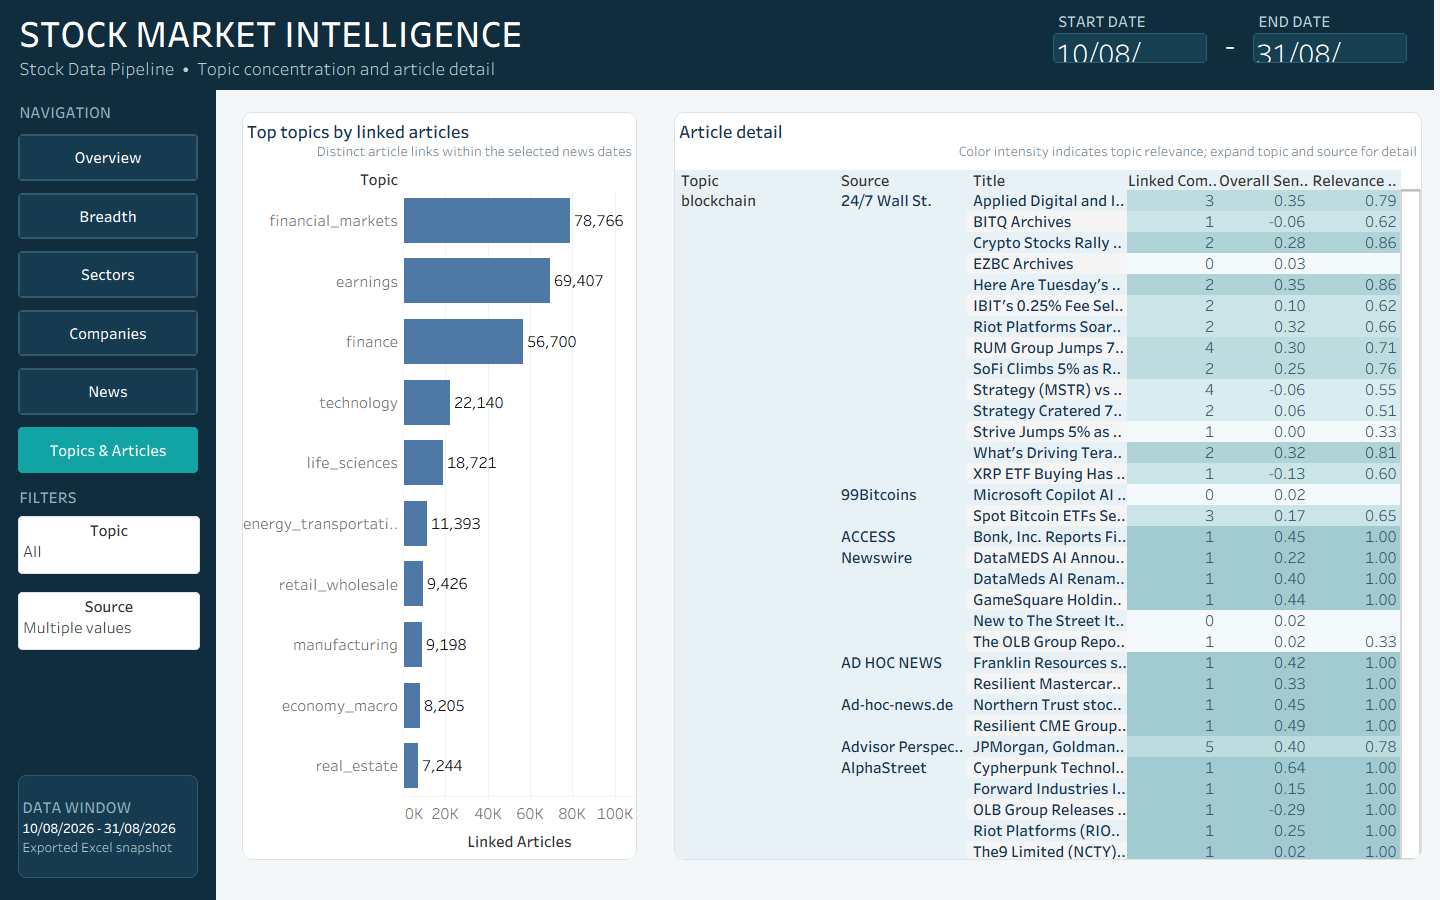

What the dashboard file says about the page in this screenshot:
{"tool":"tableau","page":{"name":"06. Topics & Articles","canvas":[1440,900],"ordinal":5},"visuals":[{"type":"blank","box":[0,0,1440,900]},{"type":"text","box":[0,0,1434,90]},{"type":"text","box":[1055,10,150,22]},{"type":"text","box":[1255,10,160,22]},{"type":"parameter","param":"[Parameters].[Parameter 1300762280890369]","box":[1050,30,160,36]},{"type":"text","box":[1176,30,108,28]},{"type":"parameter","param":"[Parameters].[Parameter 1300762280984578]","box":[1250,30,160,36]},{"type":"blank","box":[0,90,216,810]},{"type":"text","box":[14.4,99,187.2,27]},{"type":"worksheet","title":"Top News Topics by Article Links","mark":"Bar","rows":["name (dim!topics)"],"cols":["new_id (fact!news!topics)"],"box":[237.6,108,403.2,756]},{"type":"worksheet","title":"Article Detail Table","mark":"Square","rows":["name (dim!topics)","source","title"],"box":[669.6,108,756,756]},{"type":"dashboard-object","box":[14.4,130.5,187.2,54]},{"type":"dashboard-object","box":[14.4,189,187.2,54]},{"type":"dashboard-object","box":[14.4,247.5,187.2,54]},{"type":"dashboard-object","box":[14.4,306,187.2,54]},{"type":"dashboard-object","box":[14.4,364.5,187.2,54]},{"type":"dashboard-object","box":[14.4,423,187.2,54]},{"type":"text","box":[14.4,486,187.2,22.5]},{"type":"filter","title":"Article Detail Table","param":"[federated.11qdke01tbc8mv13ne5071r7qorc].[none:name (dim!topics):nk]","box":[15,513,188,64]},{"type":"filter","title":"Article Detail Table","param":"[federated.11qdke01tbc8mv13ne5071r7qorc].[none:source:nk]","box":[15,589,188,64]},{"type":"text","box":[14,771,188,111]},{"type":"text","box":[15,809,172,38]}]}

Visuals, with their boxes in screenshot pixels (x1, y1, x2, y2), scaled from the page's 1440x900 canvas onto the 1440x900 screenshot:
blank: x1=0, y1=0, x2=1439, y2=899
text: x1=0, y1=0, x2=1434, y2=90
text: x1=1055, y1=10, x2=1205, y2=32
text: x1=1255, y1=10, x2=1415, y2=32
parameter: x1=1050, y1=30, x2=1210, y2=66
text: x1=1176, y1=30, x2=1284, y2=58
parameter: x1=1250, y1=30, x2=1410, y2=66
blank: x1=0, y1=90, x2=216, y2=899
text: x1=14, y1=99, x2=202, y2=126
"Top News Topics by Article Links" worksheet (Bar marks): x1=238, y1=108, x2=641, y2=864
"Article Detail Table" worksheet (Square marks): x1=670, y1=108, x2=1426, y2=864
dashboard-object: x1=14, y1=130, x2=202, y2=184
dashboard-object: x1=14, y1=189, x2=202, y2=243
dashboard-object: x1=14, y1=248, x2=202, y2=302
dashboard-object: x1=14, y1=306, x2=202, y2=360
dashboard-object: x1=14, y1=364, x2=202, y2=418
dashboard-object: x1=14, y1=423, x2=202, y2=477
text: x1=14, y1=486, x2=202, y2=508
"Article Detail Table" filter: x1=15, y1=513, x2=203, y2=577
"Article Detail Table" filter: x1=15, y1=589, x2=203, y2=653
text: x1=14, y1=771, x2=202, y2=882
text: x1=15, y1=809, x2=187, y2=847
